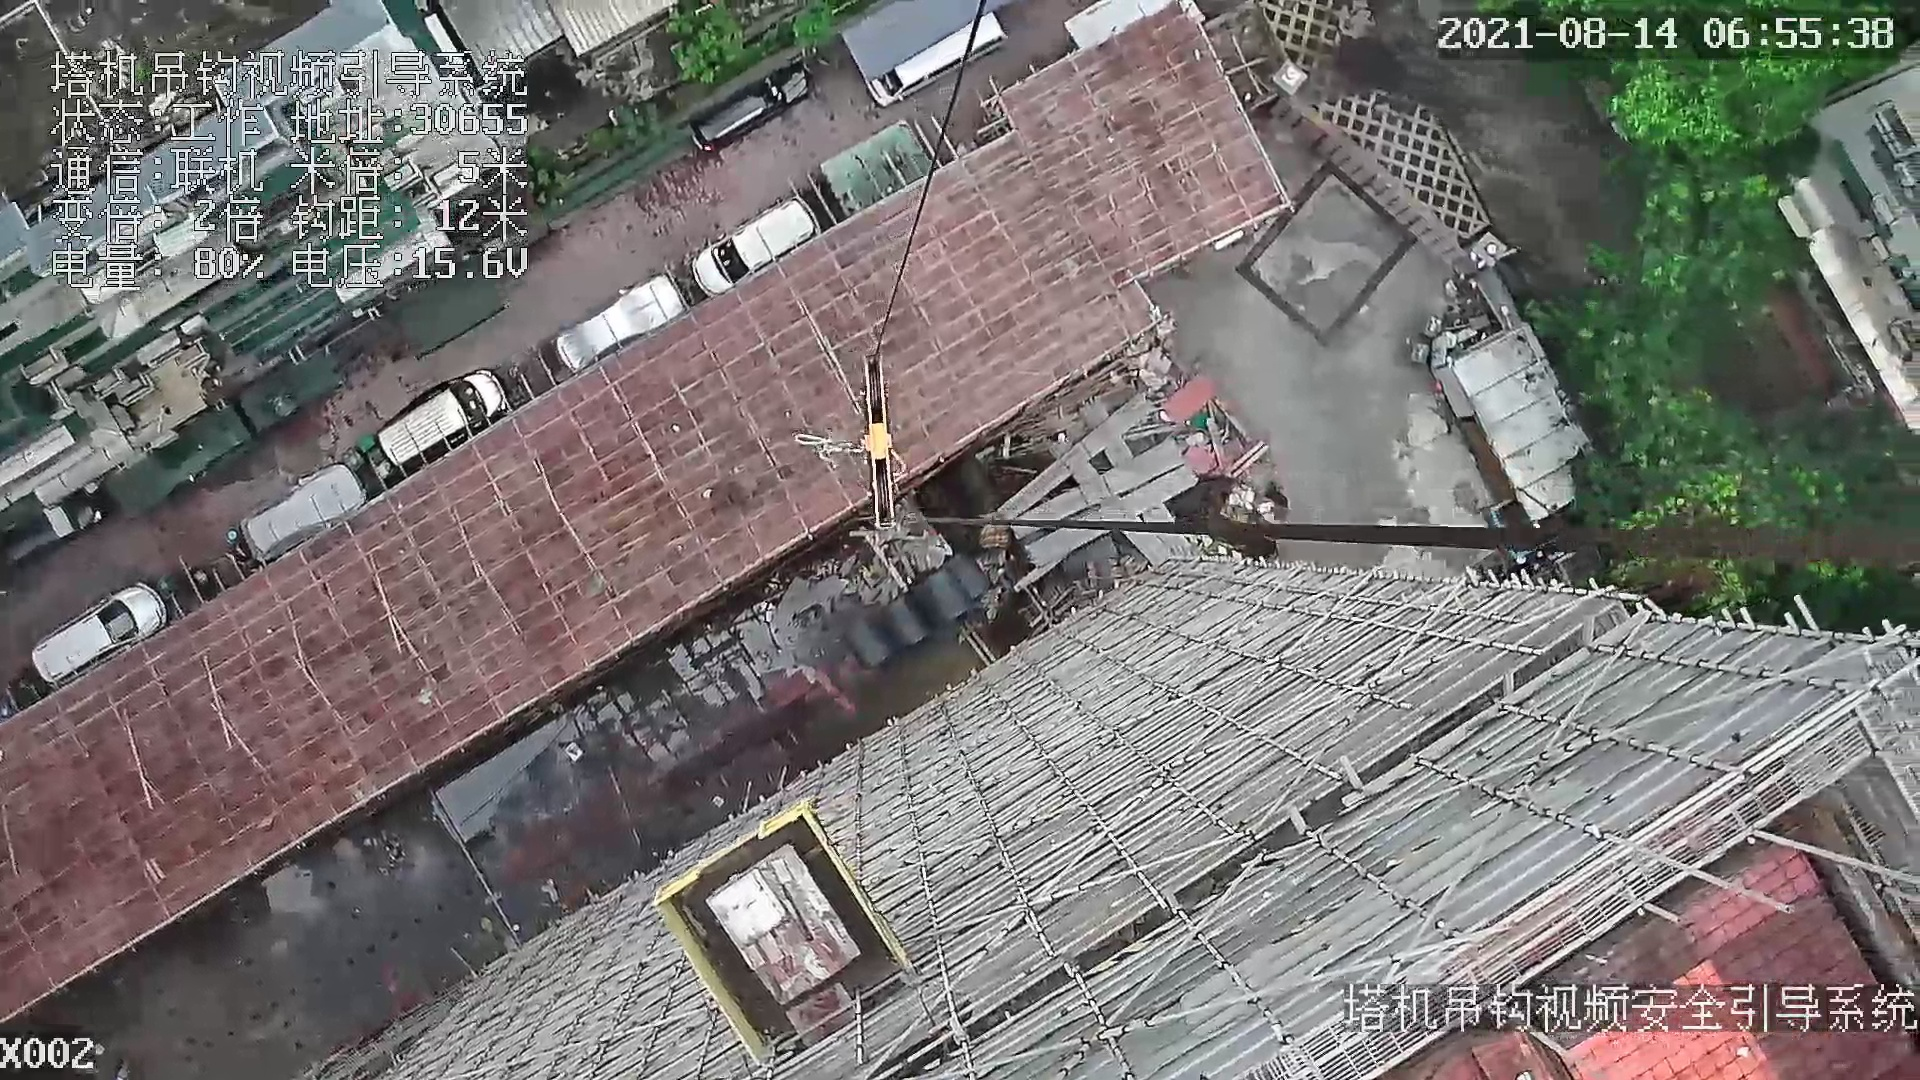board: (702, 845, 861, 1006)
hook: (855, 351, 916, 521)
rebar: (997, 396, 1154, 521), (1025, 465, 1199, 568), (1011, 436, 1184, 539), (1142, 504, 1188, 553), (1122, 531, 1171, 567)
